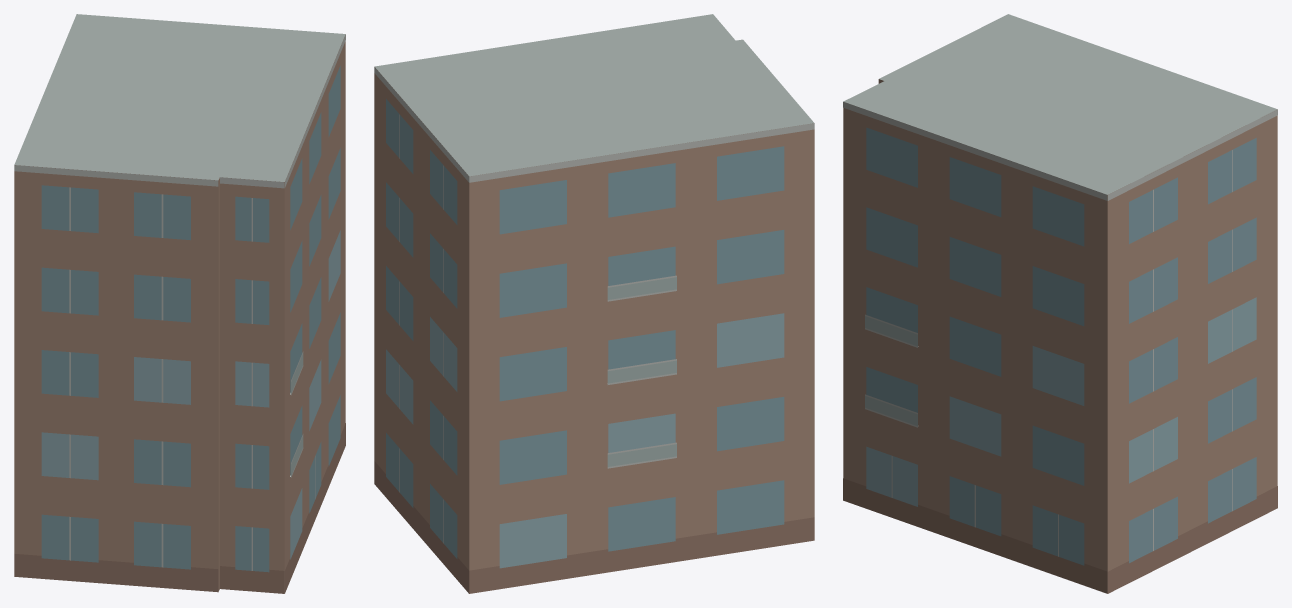
Rendered from survey-upis-32883339.glb.
The picture shows the model from 3 angles, left to right: view 1: azimuth 30°, elevation 25°; view 2: azimuth 150°, elevation 25°; view 3: azimuth 270°, elevation 25°; orthographic projection. The views are drawn at different scales.
Parts seen in each view (by area): view 1: survey-upis-32883339.tmp; view 2: survey-upis-32883339.tmp; view 3: survey-upis-32883339.tmp.
Part boxes in pixels (<box>): survey-upis-32883339.tmp: <box>14,14,345,593</box>; survey-upis-32883339.tmp: <box>374,14,814,593</box>; survey-upis-32883339.tmp: <box>843,14,1277,593</box>.
Bounding box in the file's own units: 15.57 × 16 × 15.8.
